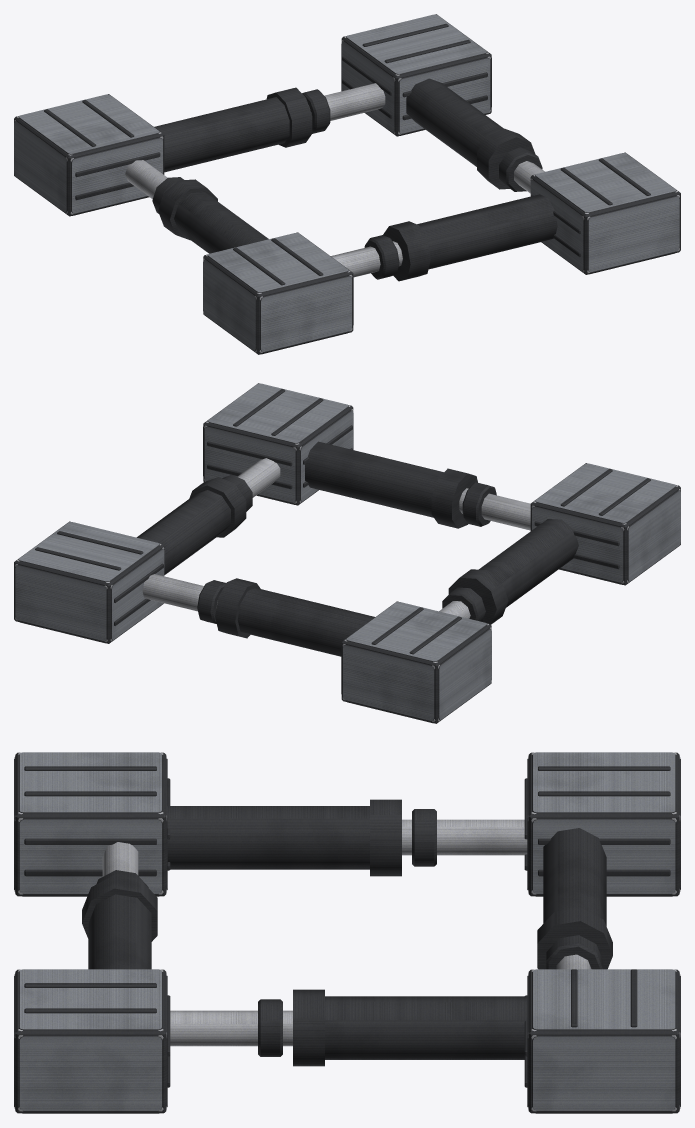
File: R4C_ROD_FRAME.glb
The picture shows the model from 3 angles, top to bottom: view 1: azimuth 30°, elevation 25°; view 2: azimuth 150°, elevation 25°; view 3: azimuth 270°, elevation 25°; orthographic projection. The views are drawn at different scales.
Visible parts, largest first — view 1: R4C_ROD_FRAME; view 2: R4C_ROD_FRAME; view 3: R4C_ROD_FRAME.
Boxes of the visible parts, box(x1,y1,x2,y2) form: R4C_ROD_FRAME: box(14, 14, 680, 354); R4C_ROD_FRAME: box(14, 383, 680, 723); R4C_ROD_FRAME: box(14, 752, 680, 1113).
Bounding box in the file's own units: 1.62 × 0.233 × 1.62.
4 materials, 4 textured.
